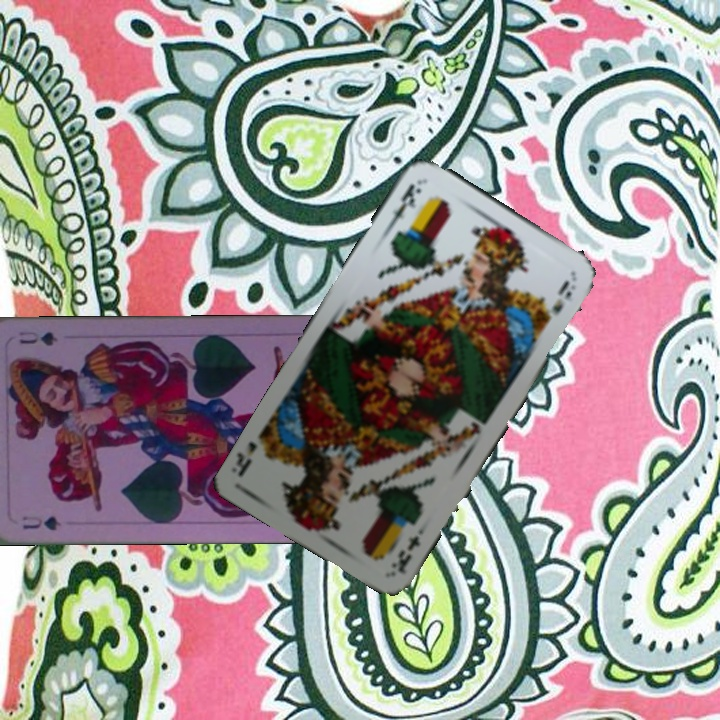EK: (387, 520, 429, 577), (384, 177, 424, 230)
GU: (18, 511, 64, 533)
